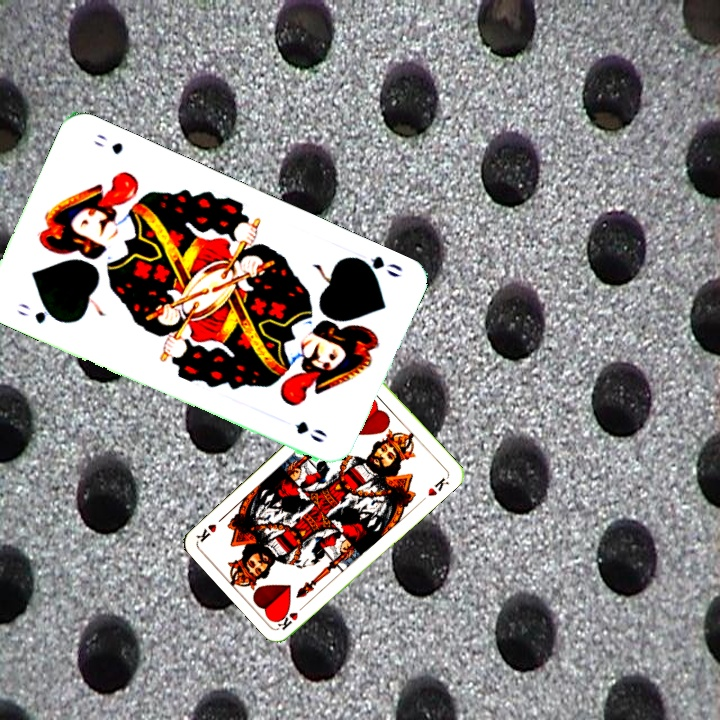GO: (347, 252, 405, 280), (14, 299, 64, 327)
HK: (274, 599, 310, 632)
